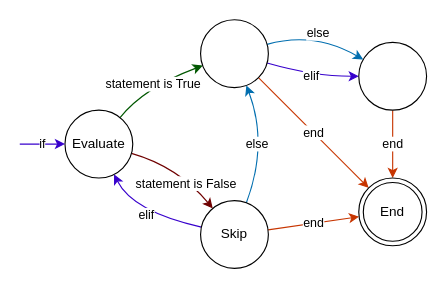
Some shapes in this 446 by 288 pixel diagram are drawn without their labels. Each missing label, with the centre of its shape:
Do: point (233, 53)
Skip all: point (392, 75)
